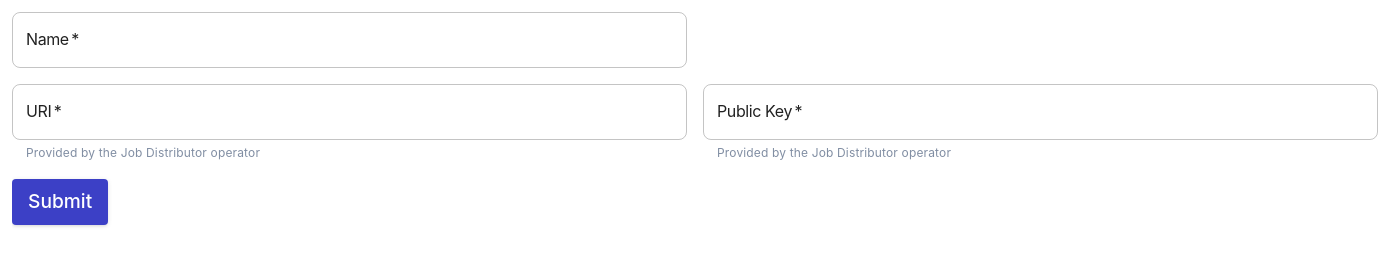
Test: FeedsManagerForm › validates input
What coordinates should you click on to do the following:
click the button "Submit"
I would click on:
 (60, 202)
Its box is [12, 179, 108, 224].
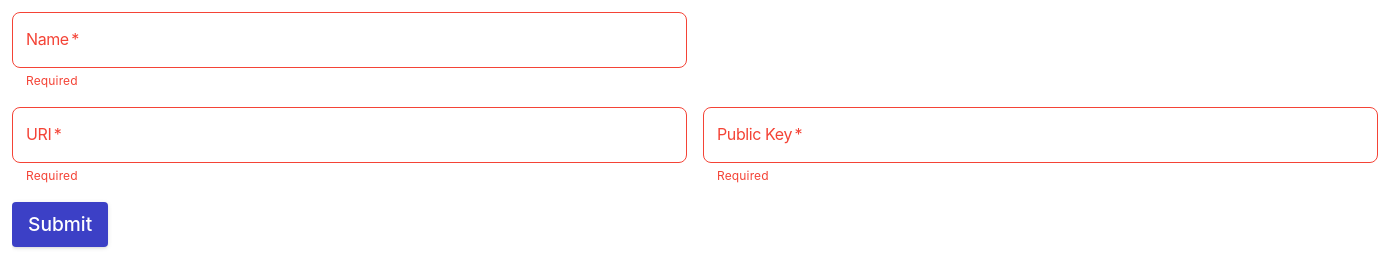
Now the text with test id "name-helper-text" reads "Required", box [26, 73, 78, 88]
Now the text with test id "uri-helper-text" reads "Required", box [26, 168, 78, 183]
Now the text with test id "publicKey-helper-text" reads "Required", box [717, 168, 769, 183]
